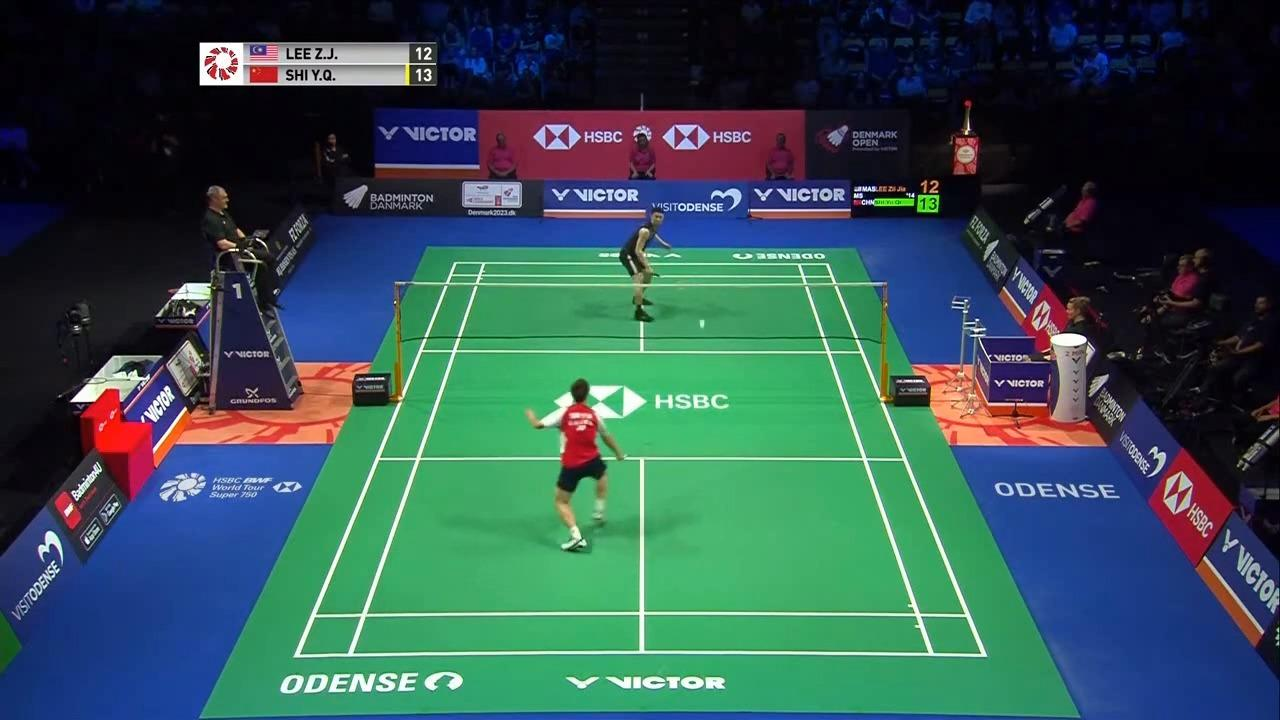shuttle: (697, 320, 706, 331)
